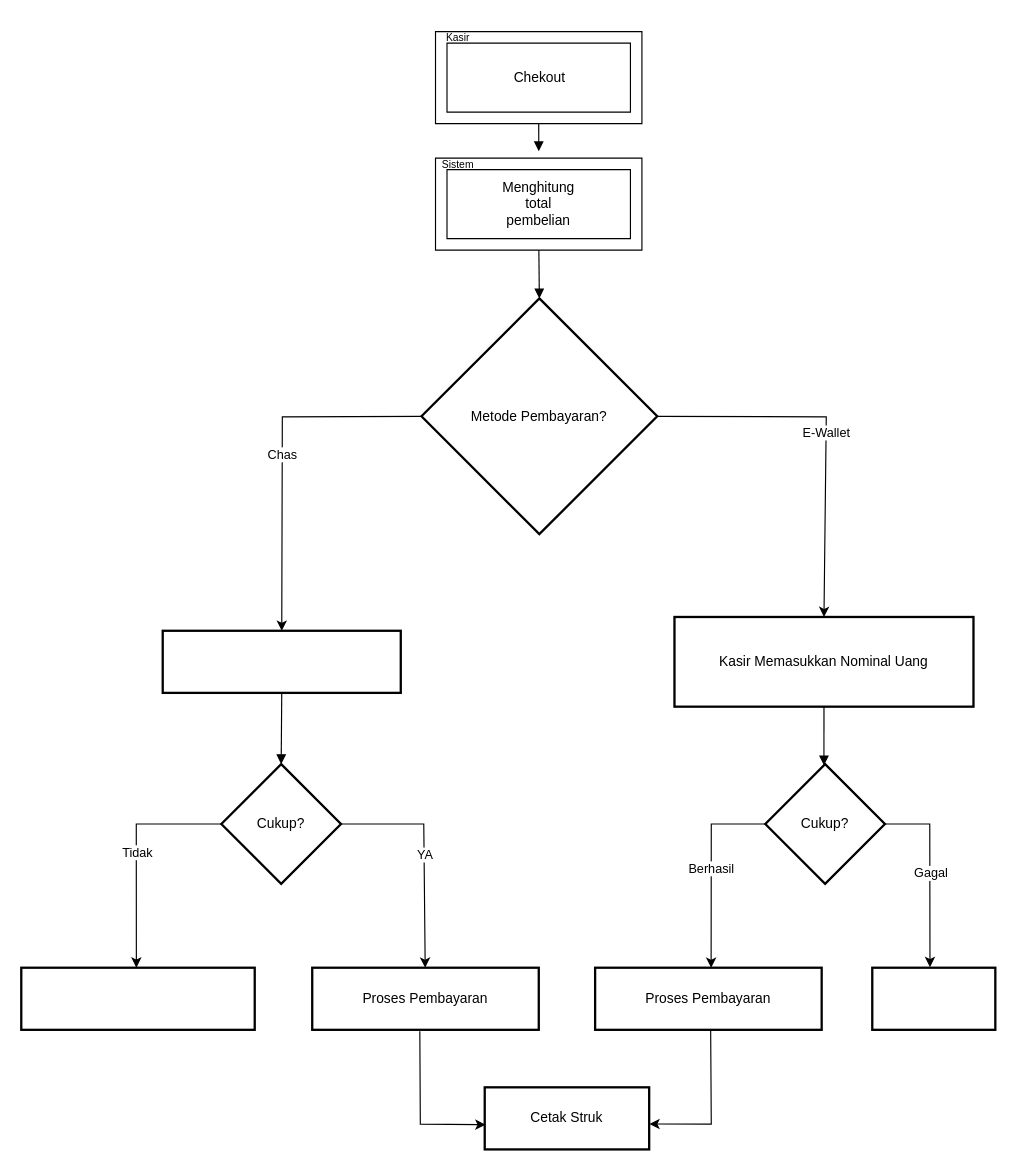
Some shapes in this 1015 by 1170 pixel diagram are drawn without their labels. The shapes that lost their labels are listed below. From the top down, each one's centre as x and y in pixels, then its label:
At (x=281, y=661): "Masuk Nominal Uang".
At (x=137, y=998): "Tolak & Minta Ulang".
At (x=933, y=998): "ERROR".
